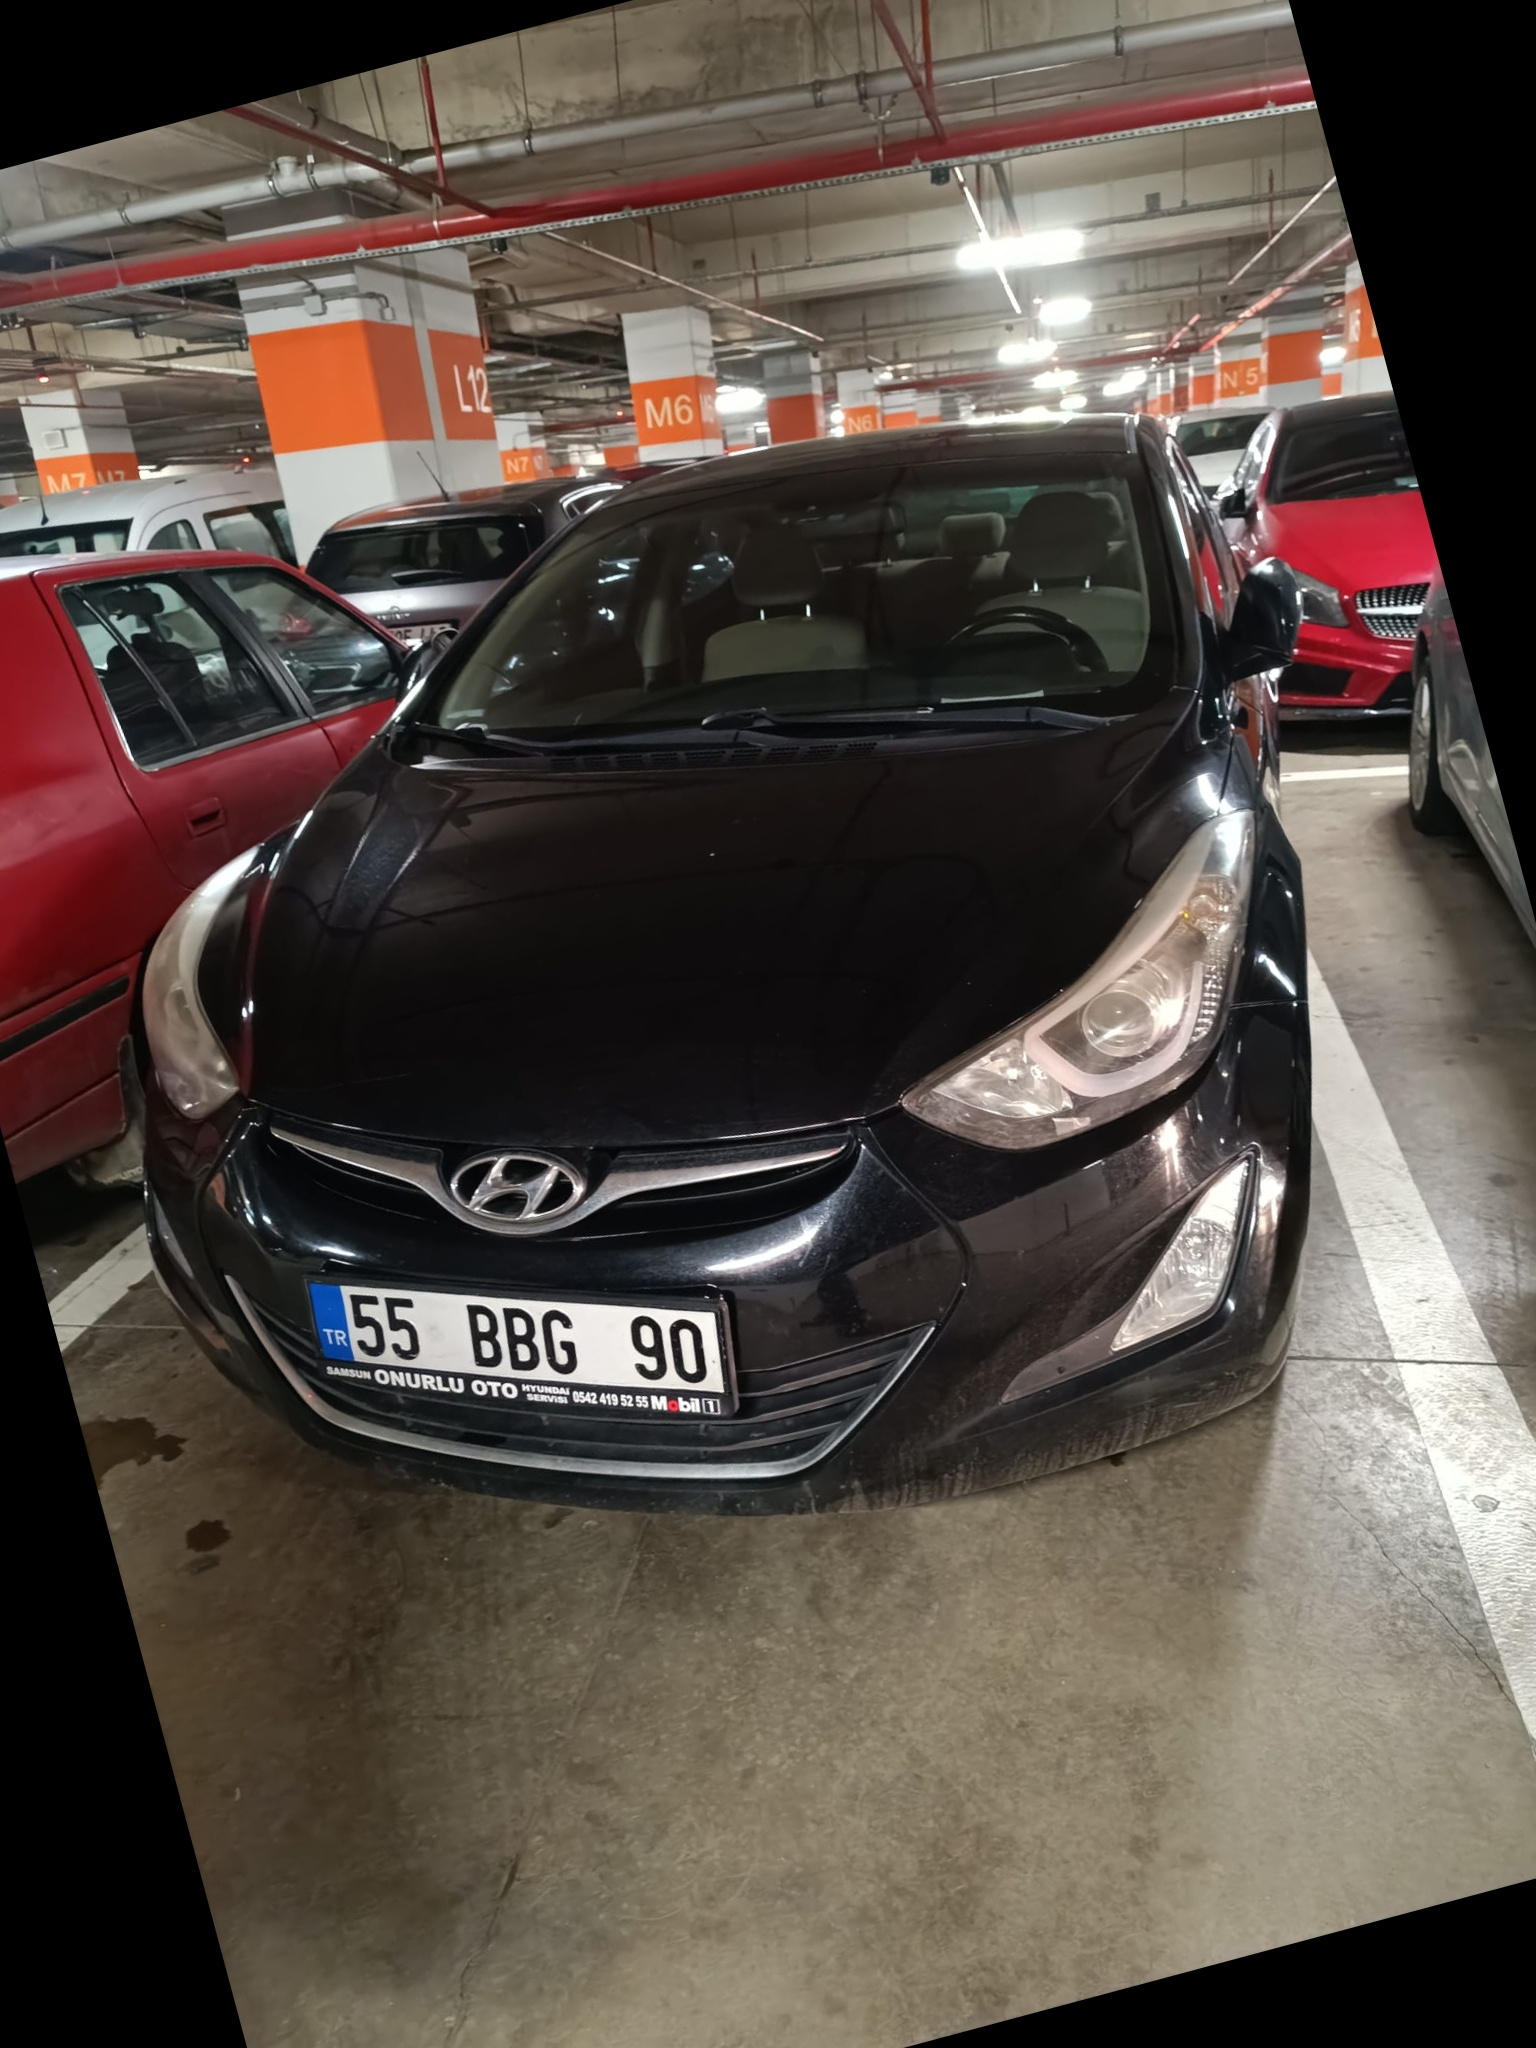plaka: (332, 1281, 732, 1391)
